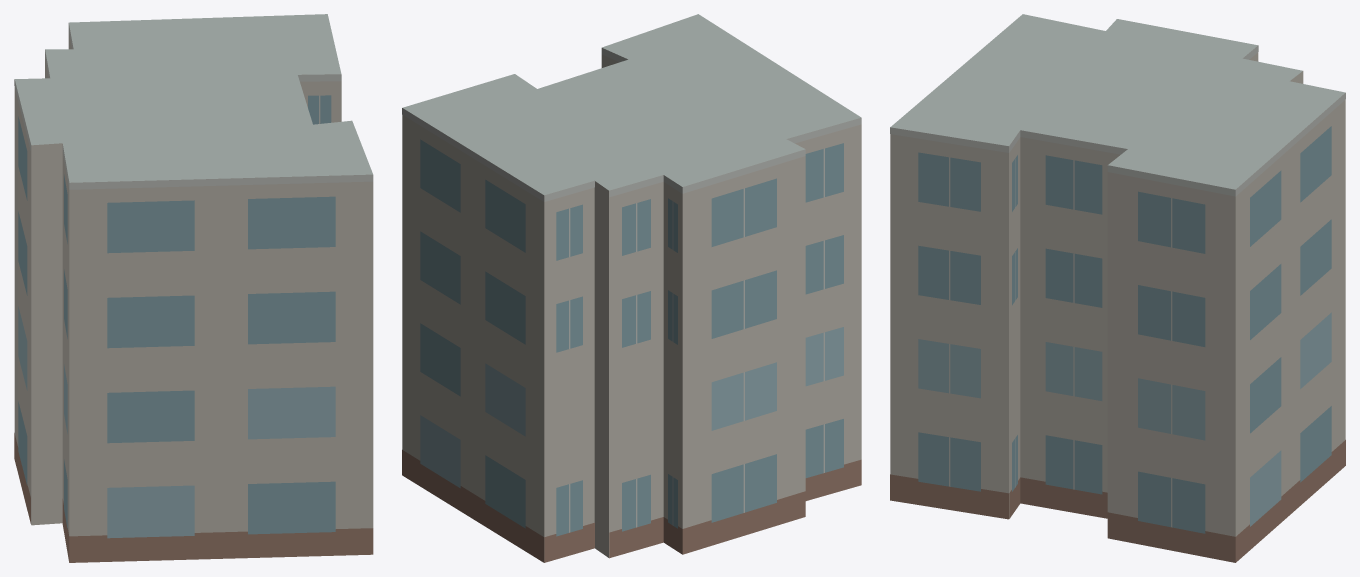
Rendered from survey-upis-32530731.glb.
3 views of the same model, side by side, from view 1: azimuth 30°, elevation 25°; view 2: azimuth 150°, elevation 25°; view 3: azimuth 270°, elevation 25° (orthographic). The views are drawn at different scales.
Visible parts, largest first — view 1: survey-upis-32530731.tmp; view 2: survey-upis-32530731.tmp; view 3: survey-upis-32530731.tmp.
Boxes of the visible parts, x1,y1,x2,y2 form: survey-upis-32530731.tmp: (14,14,373,562); survey-upis-32530731.tmp: (402,14,861,562); survey-upis-32530731.tmp: (890,14,1345,562).
Bounding box in the file's own units: 13.44 × 13.3 × 14.73.
